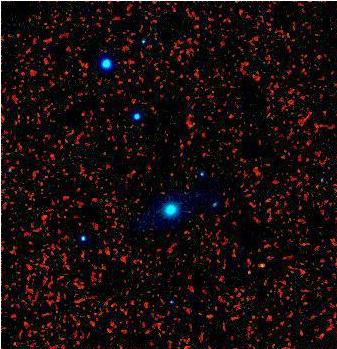star: (237, 250, 267, 280)
